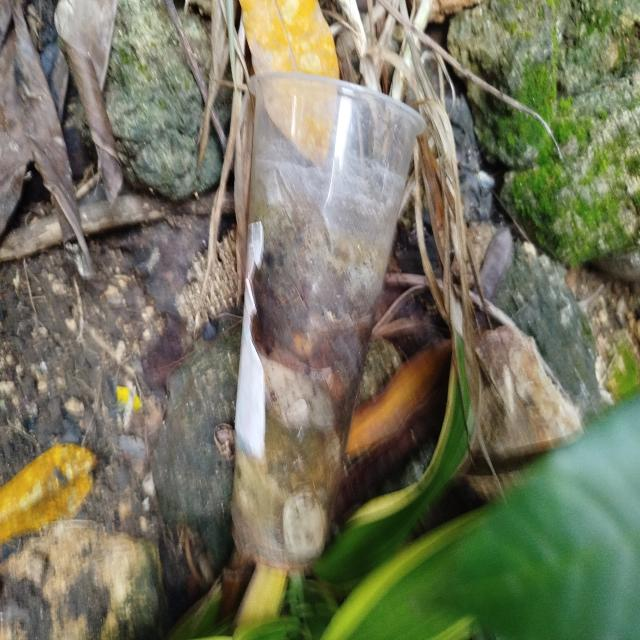residual: (222, 58, 414, 572)
